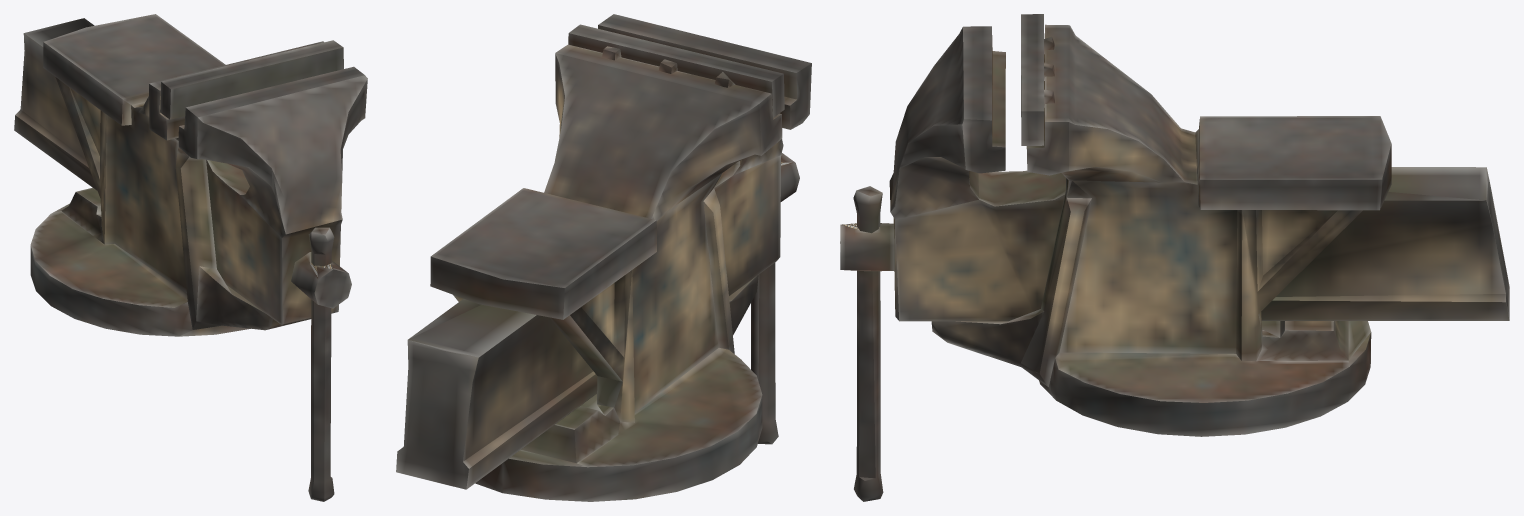
File: bench_vice_01.fbx
3 renders of one model, left to right at view 1: azimuth 30°, elevation 25°; view 2: azimuth 150°, elevation 25°; view 3: azimuth 270°, elevation 25°, orthographic. The views are drawn at different scales.
Parts seen in each view (by area): view 1: bench_vice_01; view 2: bench_vice_01; view 3: bench_vice_01.
Part boxes in pixels (x1,y1,x2,y2): bench_vice_01: [14, 14, 367, 501]; bench_vice_01: [396, 14, 811, 501]; bench_vice_01: [840, 14, 1509, 501].
Bounding box in the file's own units: 0.1992 × 0.2844 × 0.3952.
